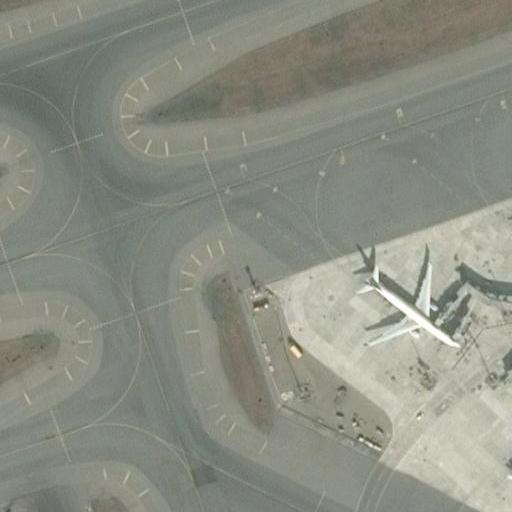Aircraft: (341, 242, 459, 353), (486, 407, 512, 497), (507, 189, 512, 296)
